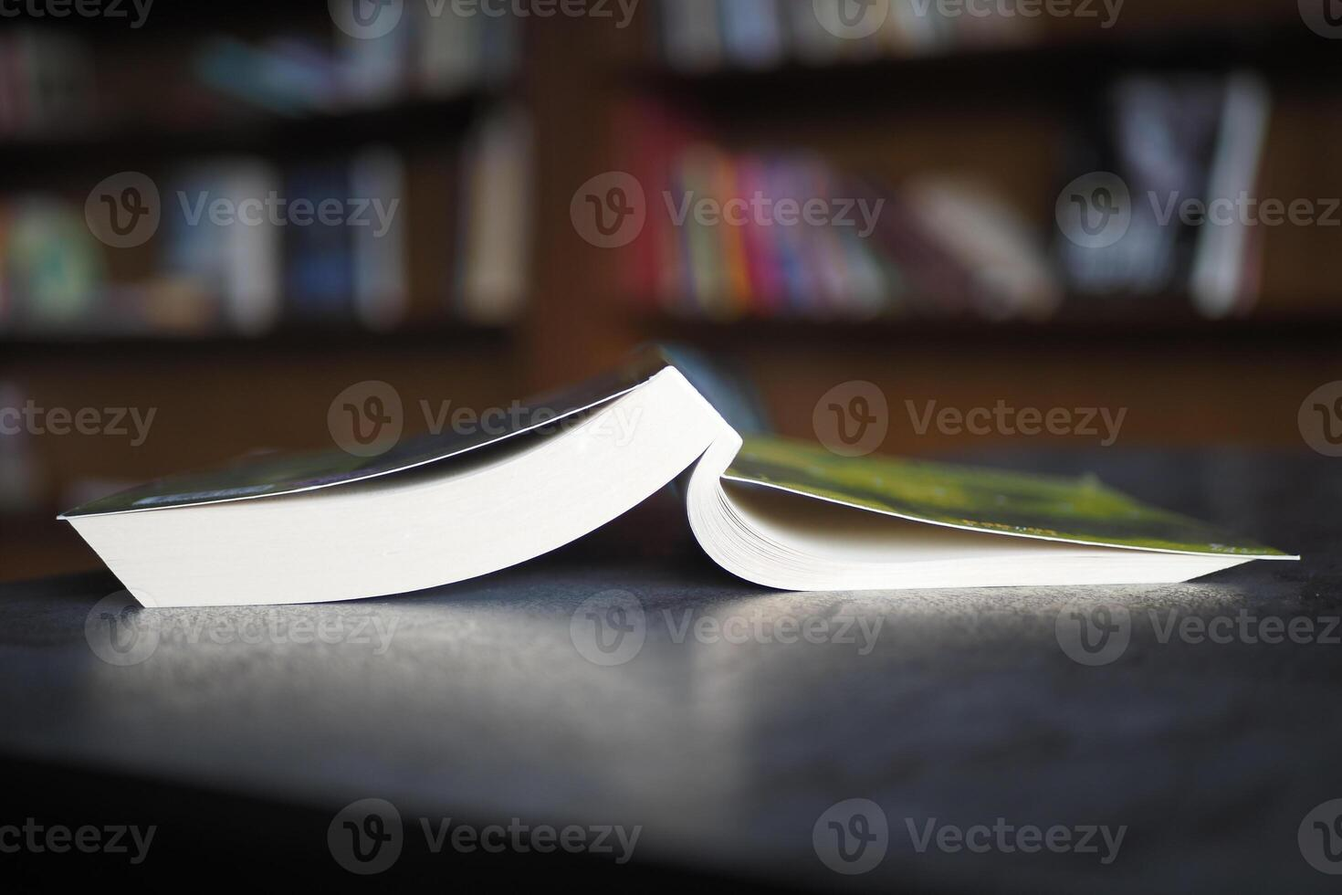not a gesture sign: (60, 347, 1297, 609)
